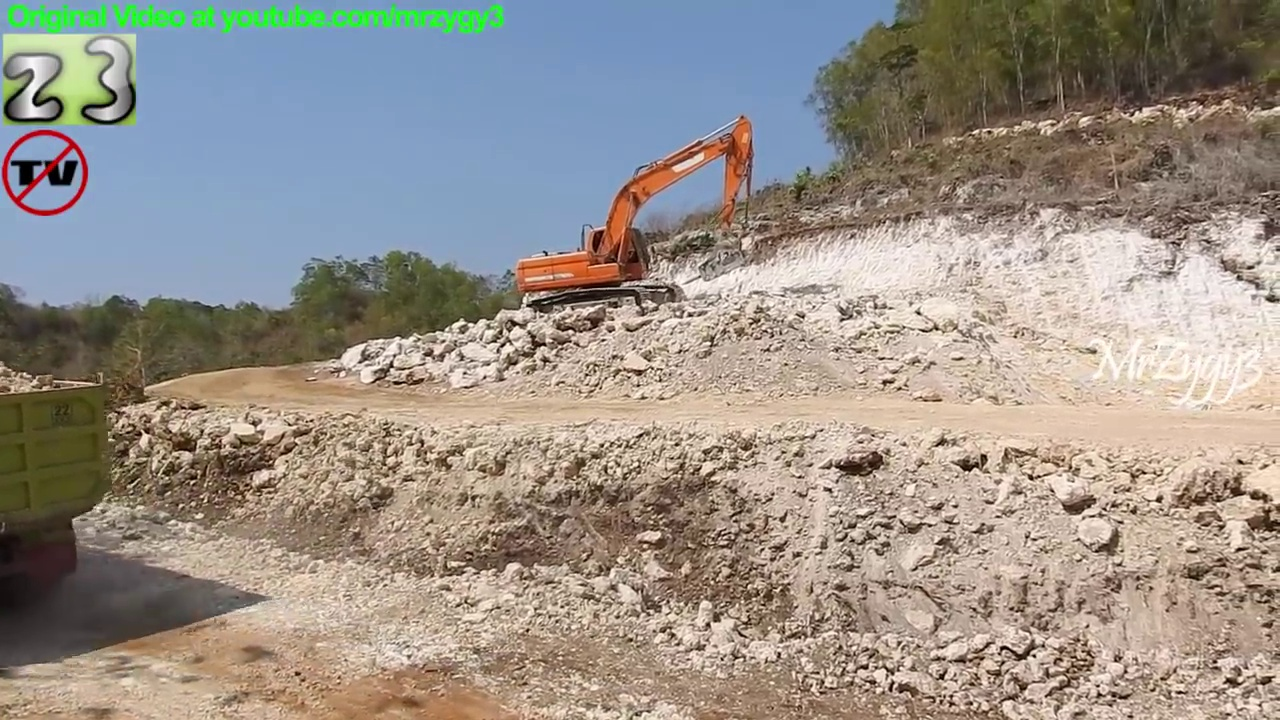excavator breaker: (513, 110, 762, 330)
truck: (1, 375, 113, 640)
